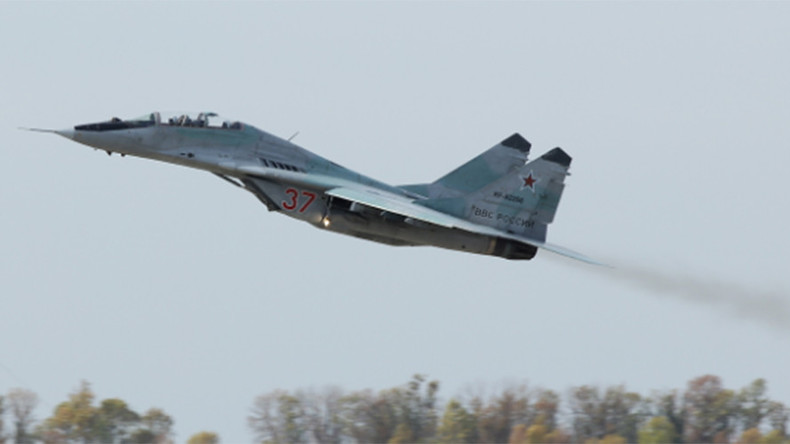Mig-29: (44, 66, 611, 287)
